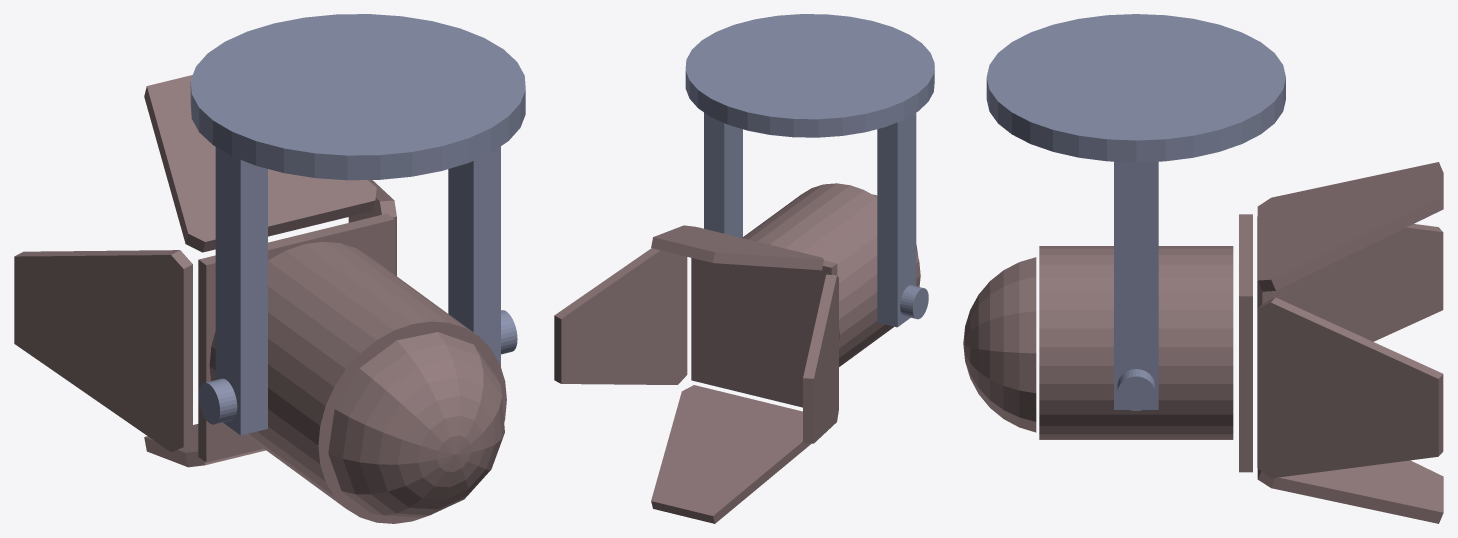
The model's file is spotluz.fbx.
3 views of the same model, side by side, from view 1: azimuth 30°, elevation 25°; view 2: azimuth 150°, elevation 25°; view 3: azimuth 270°, elevation 25° (orthographic). The views are drawn at different scales.
Visible parts, largest first — view 1: cabeça, corpospot; view 2: cabeça, corpospot; view 3: cabeça, corpospot.
Boxes of the visible parts, x1,y1,x2,y2 form: cabeça: (14, 75, 506, 523); corpospot: (190, 14, 525, 435); cabeça: (554, 183, 920, 523); corpospot: (685, 14, 934, 327); cabeça: (963, 162, 1443, 523); corpospot: (986, 14, 1285, 411).
Bounding box in the file's own units: 370 × 487 × 495.
